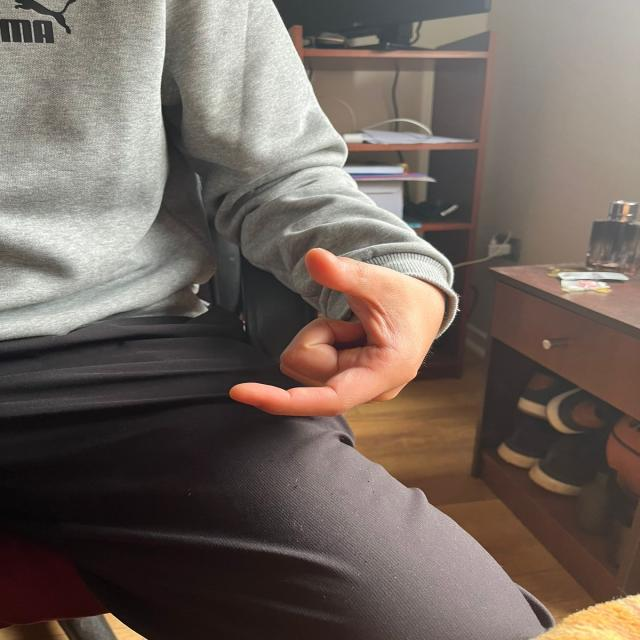G: (222, 240, 458, 427)
